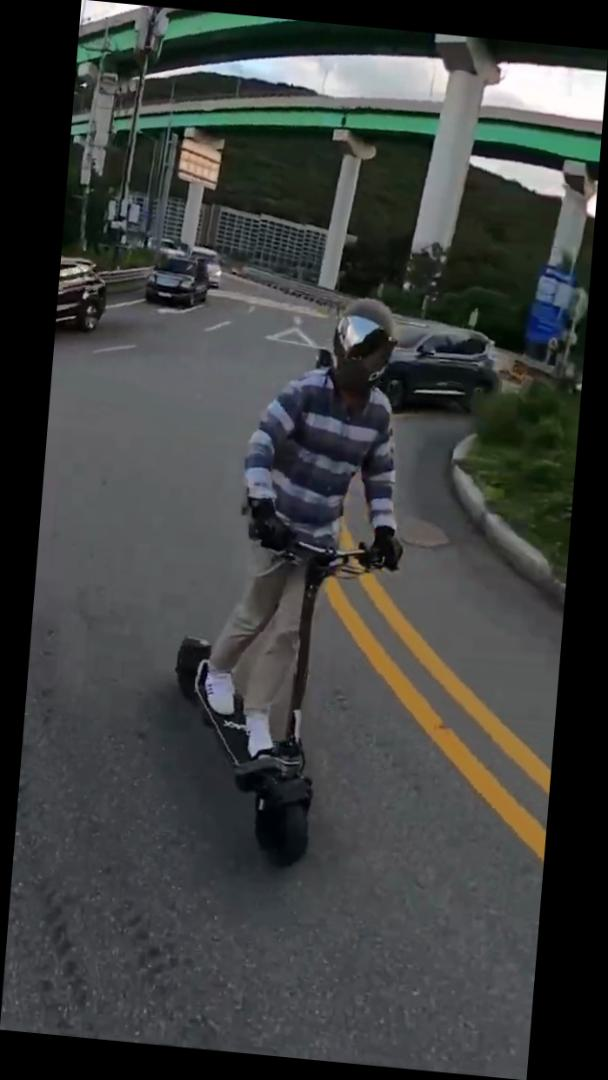helmet: (158, 279, 429, 875)
